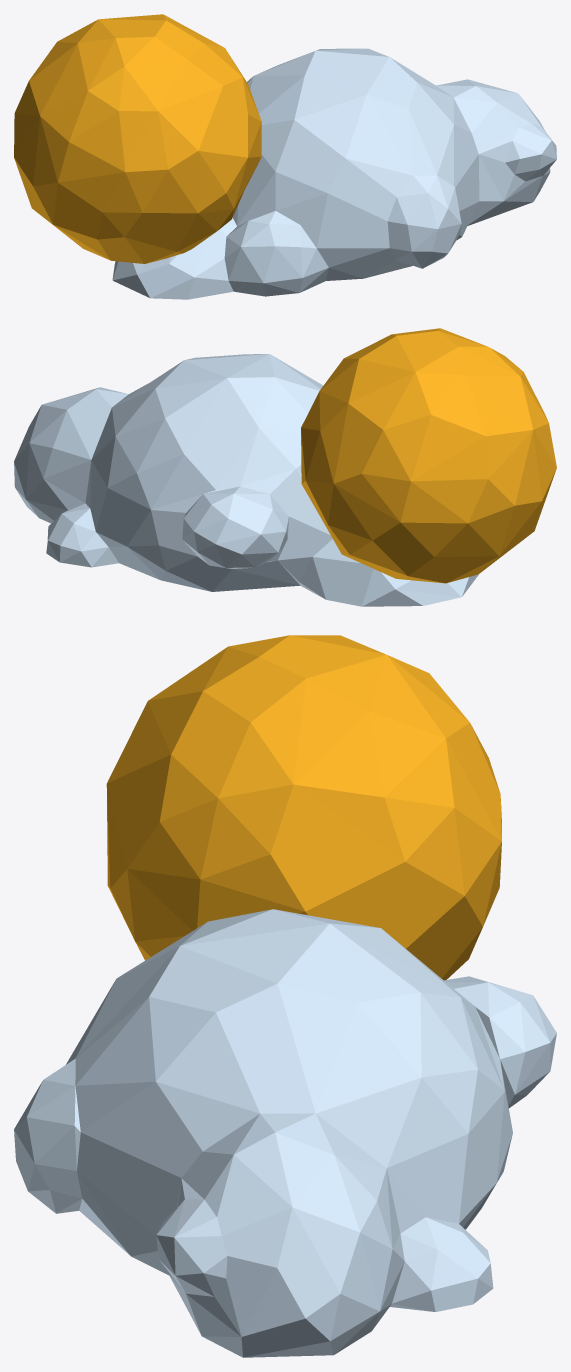
Rendered from ScatteredCloiuds.gltf.
3 renders of one model, top to bottom at view 1: azimuth 30°, elevation 25°; view 2: azimuth 150°, elevation 25°; view 3: azimuth 270°, elevation 25°, orthographic. The views are drawn at different scales.
Visible parts, largest first — view 1: Icosphere.005, Icosphere.001; view 2: Icosphere.005, Icosphere.001; view 3: Icosphere.005, Icosphere.001.
Boxes of the visible parts, box(x1,y1,x2,y2) form: Icosphere.005: box(112, 48, 556, 299); Icosphere.001: box(14, 14, 261, 263); Icosphere.005: box(14, 354, 478, 606); Icosphere.001: box(301, 328, 556, 583); Icosphere.005: box(14, 909, 556, 1357); Icosphere.001: box(106, 635, 501, 980).
Bounding box in the file's own units: 3.98 × 1.88 × 2.26.
